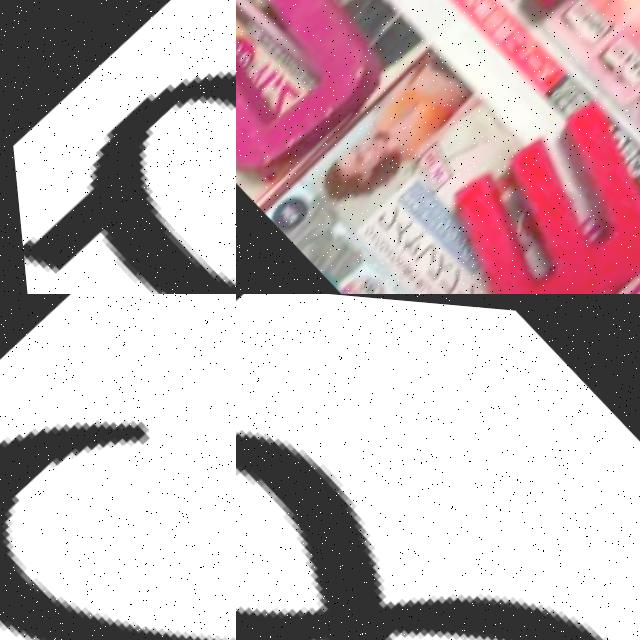2: (0, 294, 236, 640)
8: (236, 294, 640, 640)
G: (0, 0, 236, 294)
U: (236, 0, 405, 202)
W: (389, 60, 640, 294)
